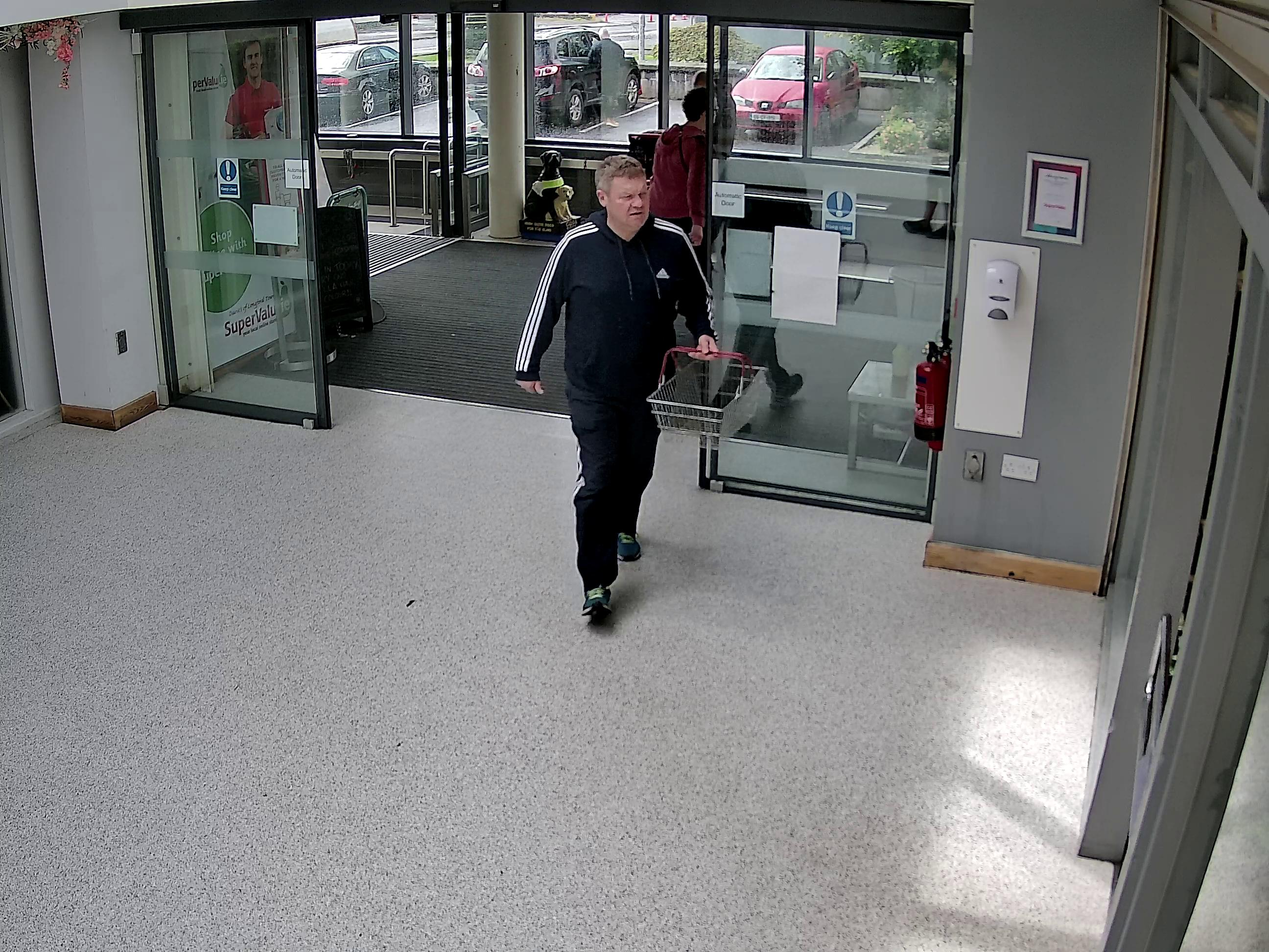empty-basket: (649, 346, 769, 450)
person: (516, 155, 717, 614)
person-with-empty-basket-trolly: (514, 153, 769, 612)
